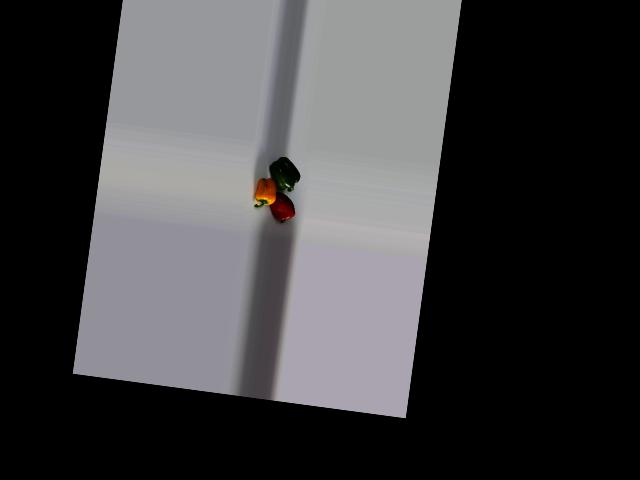bell_pepper: (250, 176, 282, 211)
